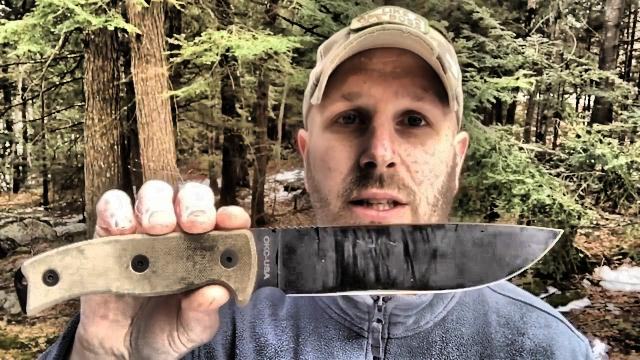knife: (134, 176, 602, 308)
